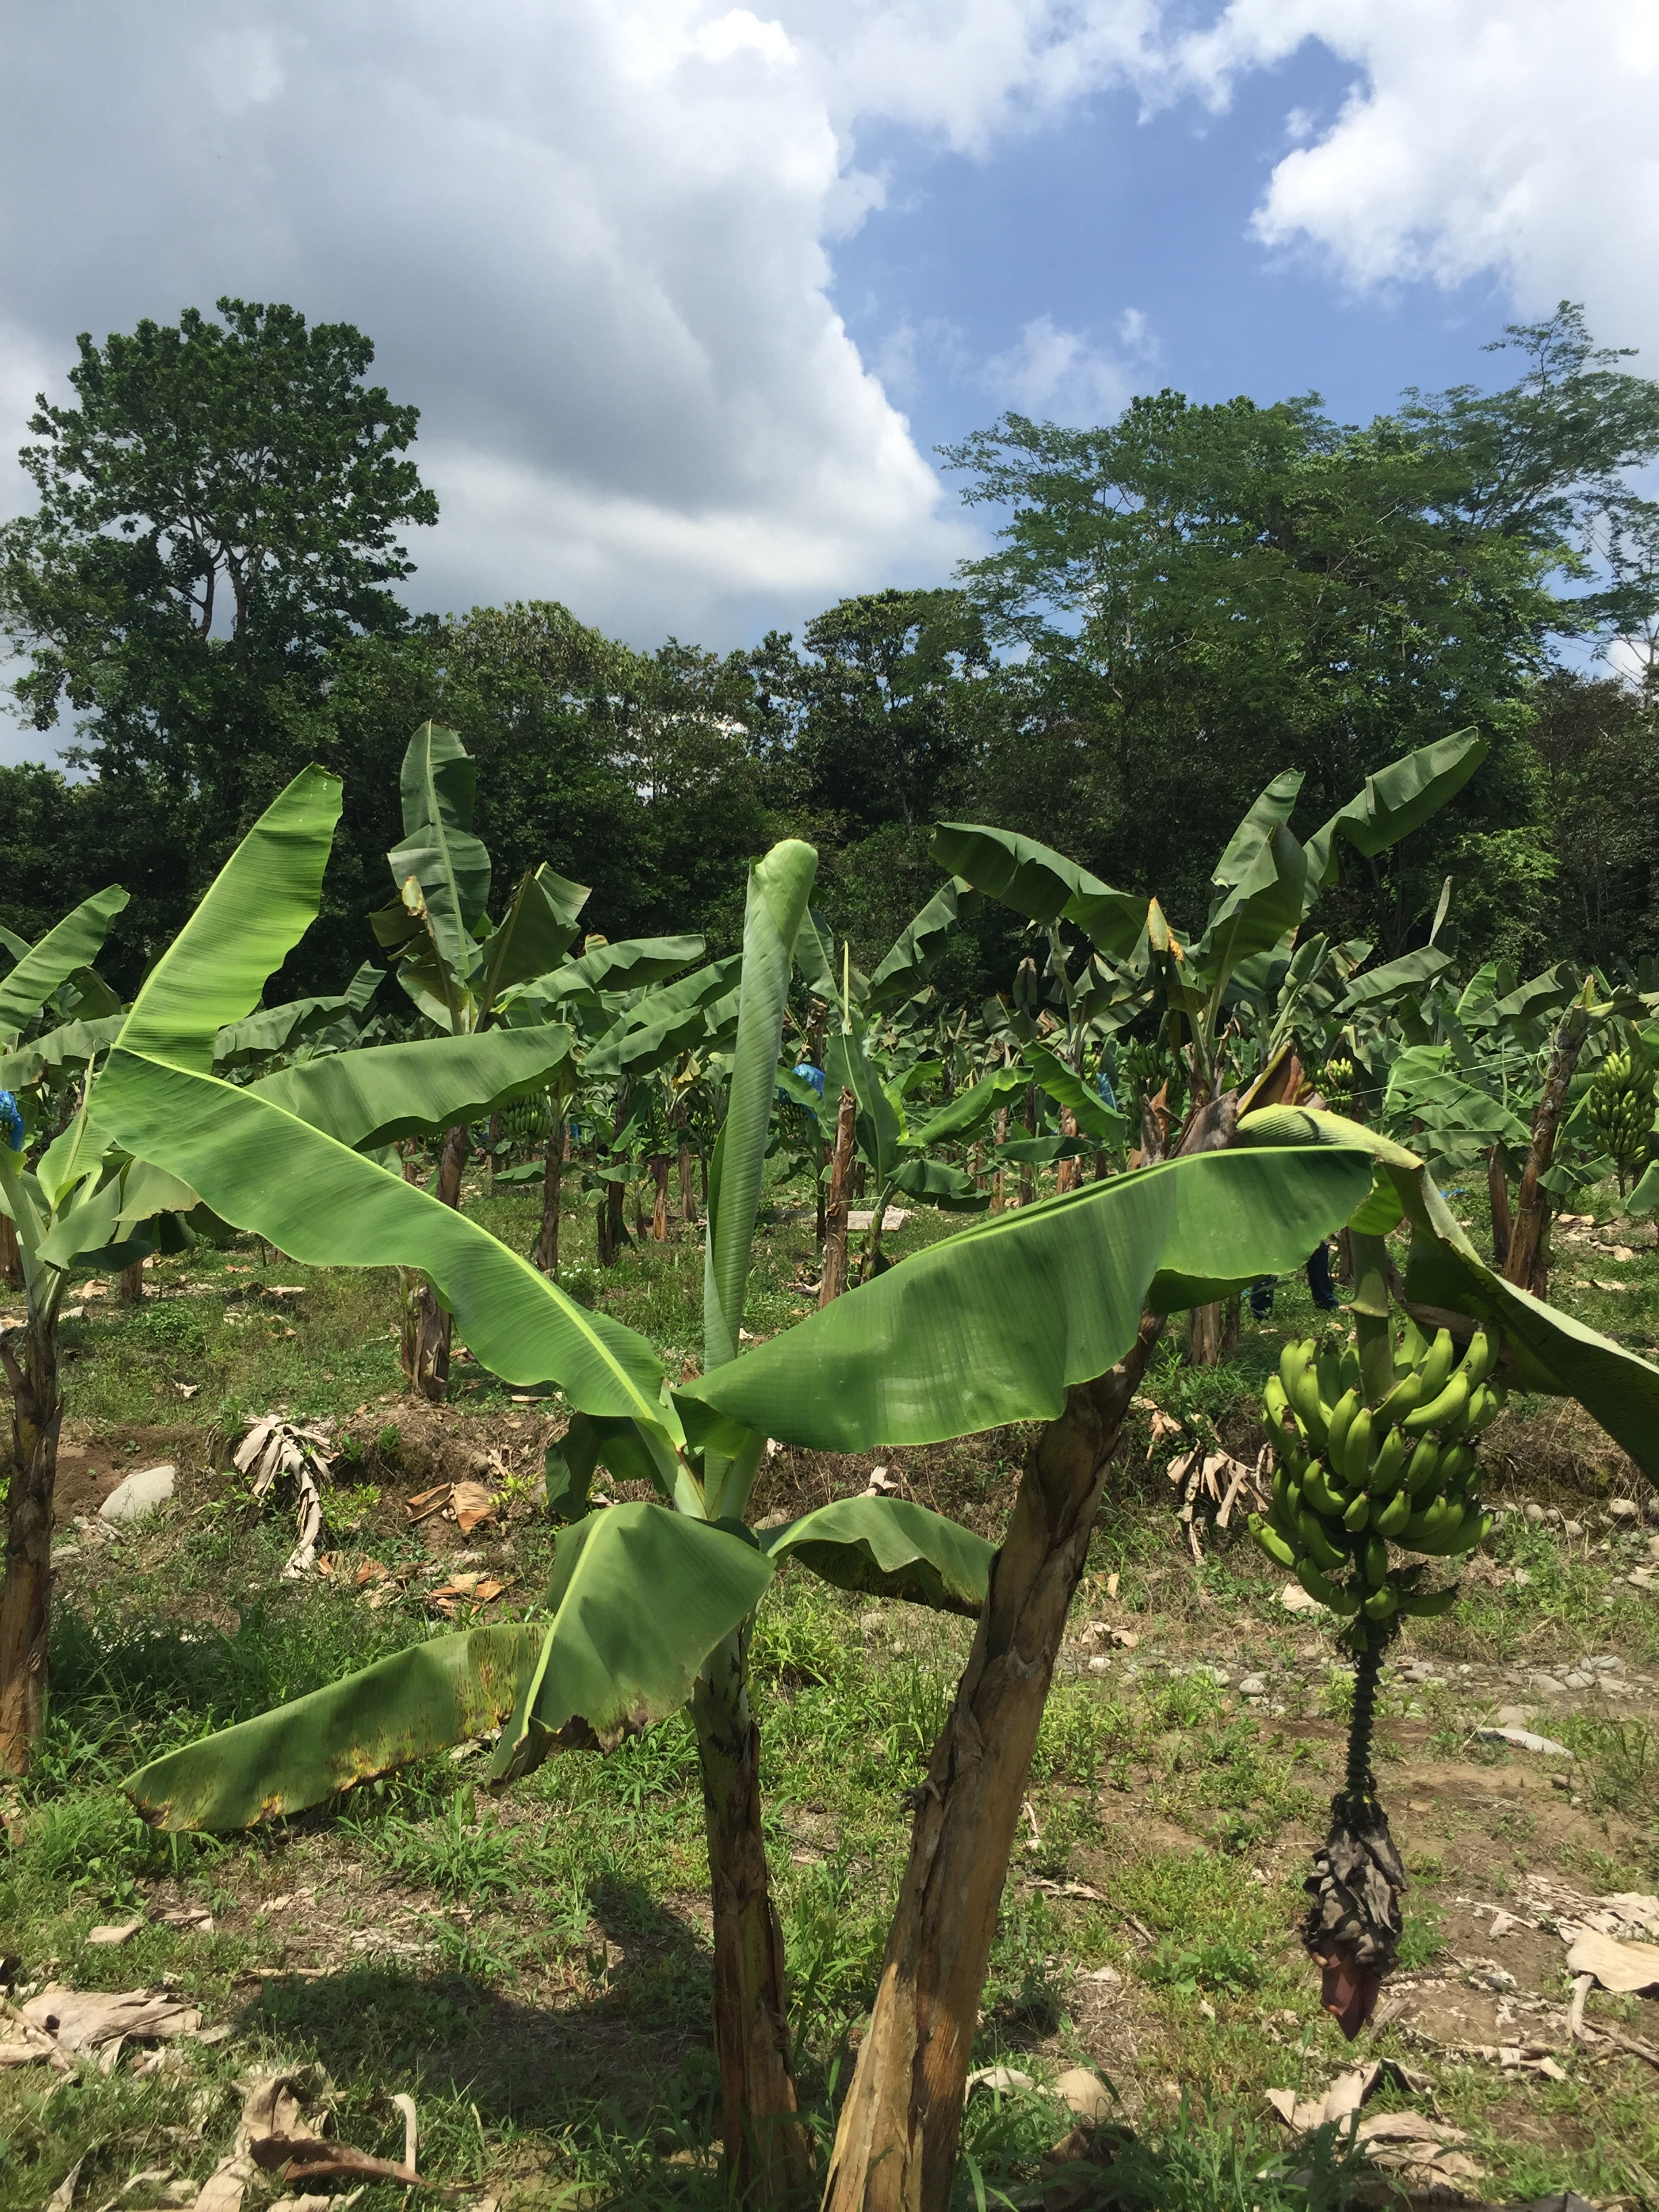candleleafs: (708, 841, 817, 1366)
